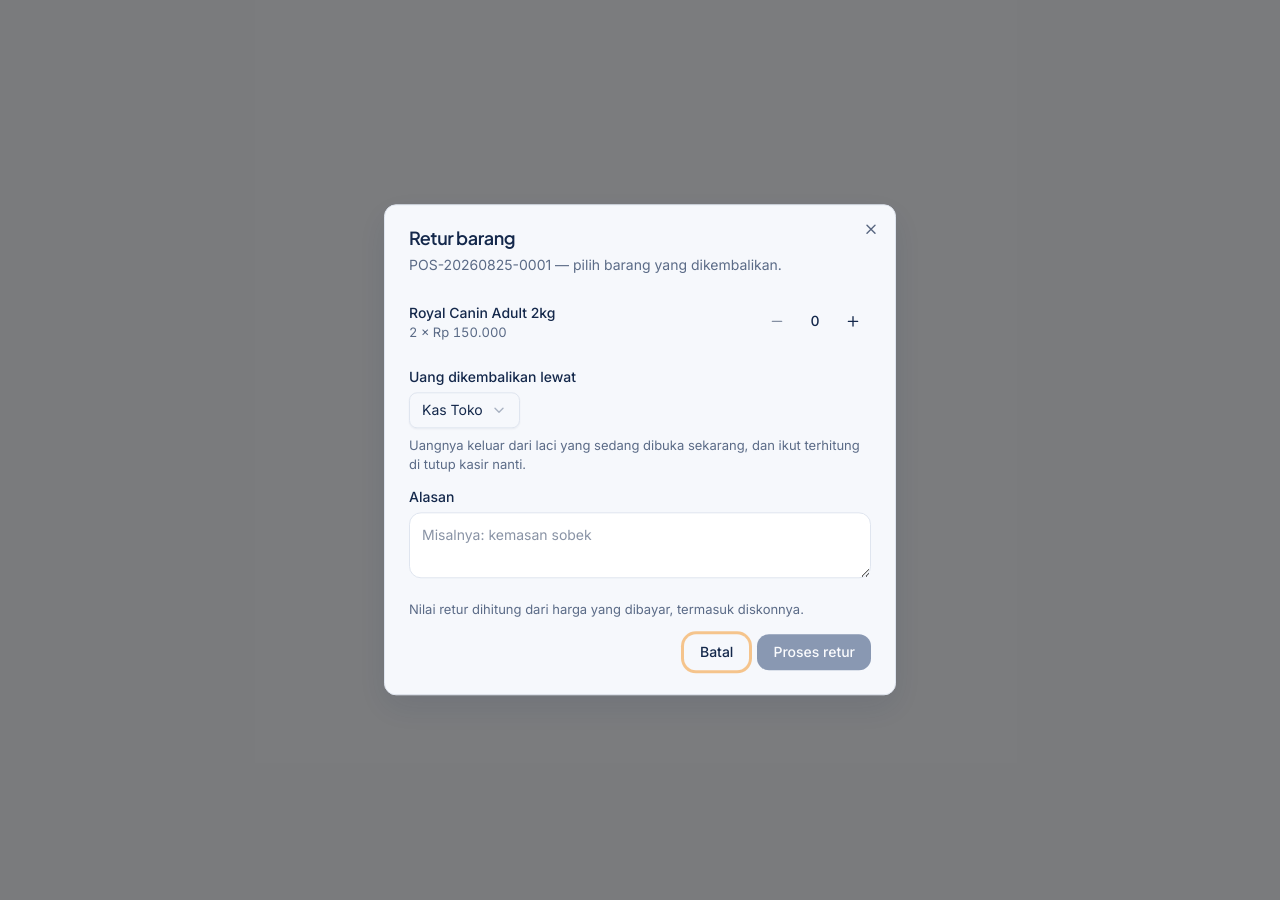
Scenario: ReturnDialog › asks whether each line goes back on the shelf, once something is chosen
Click the button named "tambah royal" at (853, 321), box [835,303,871,339]
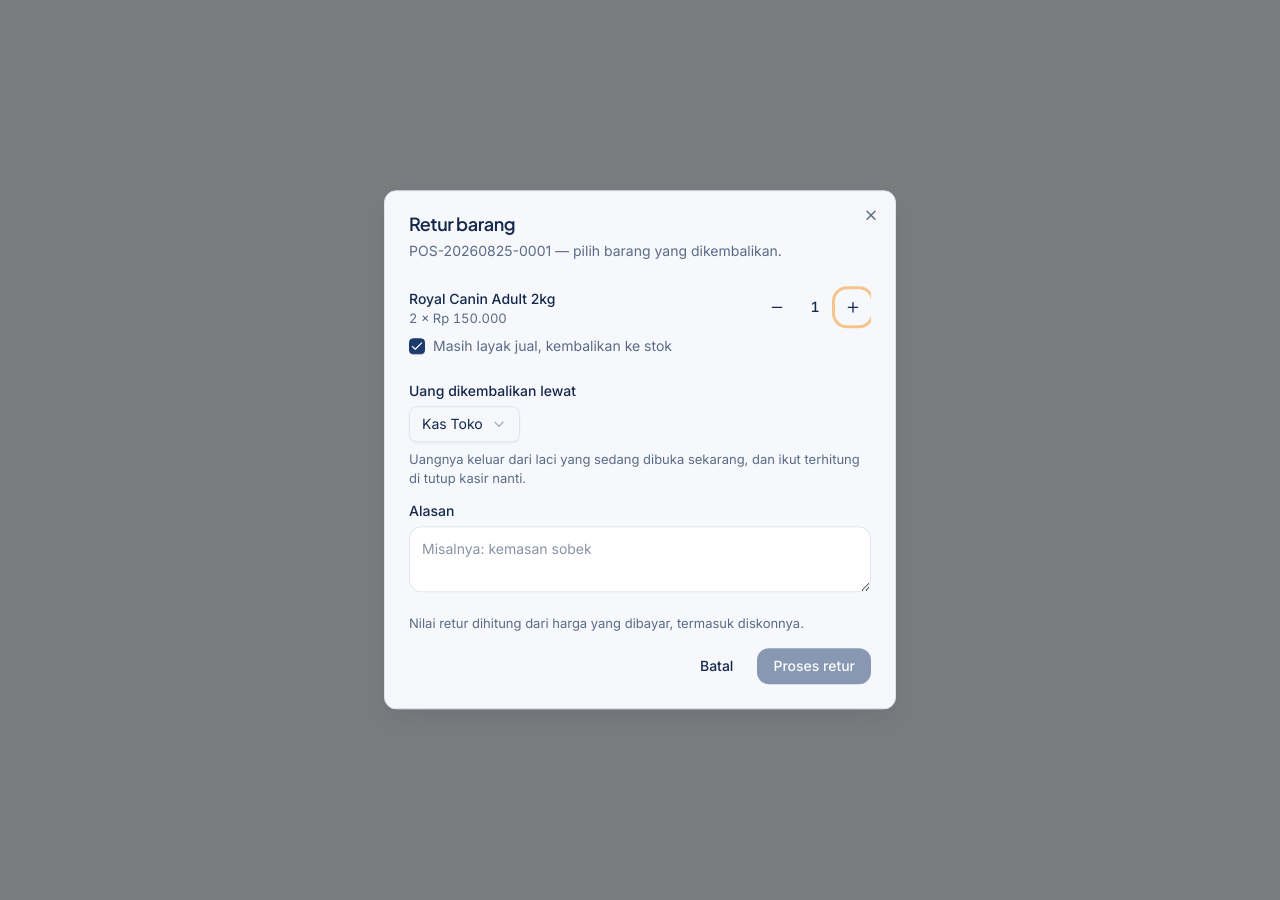
Expected: the checkbox named "masih layak jual" is shown, [409,338,425,354]
